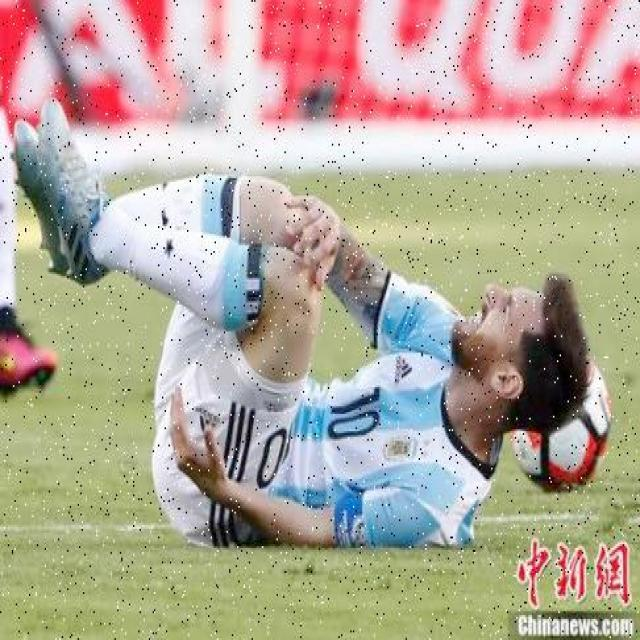fall: (30, 111, 561, 542)
